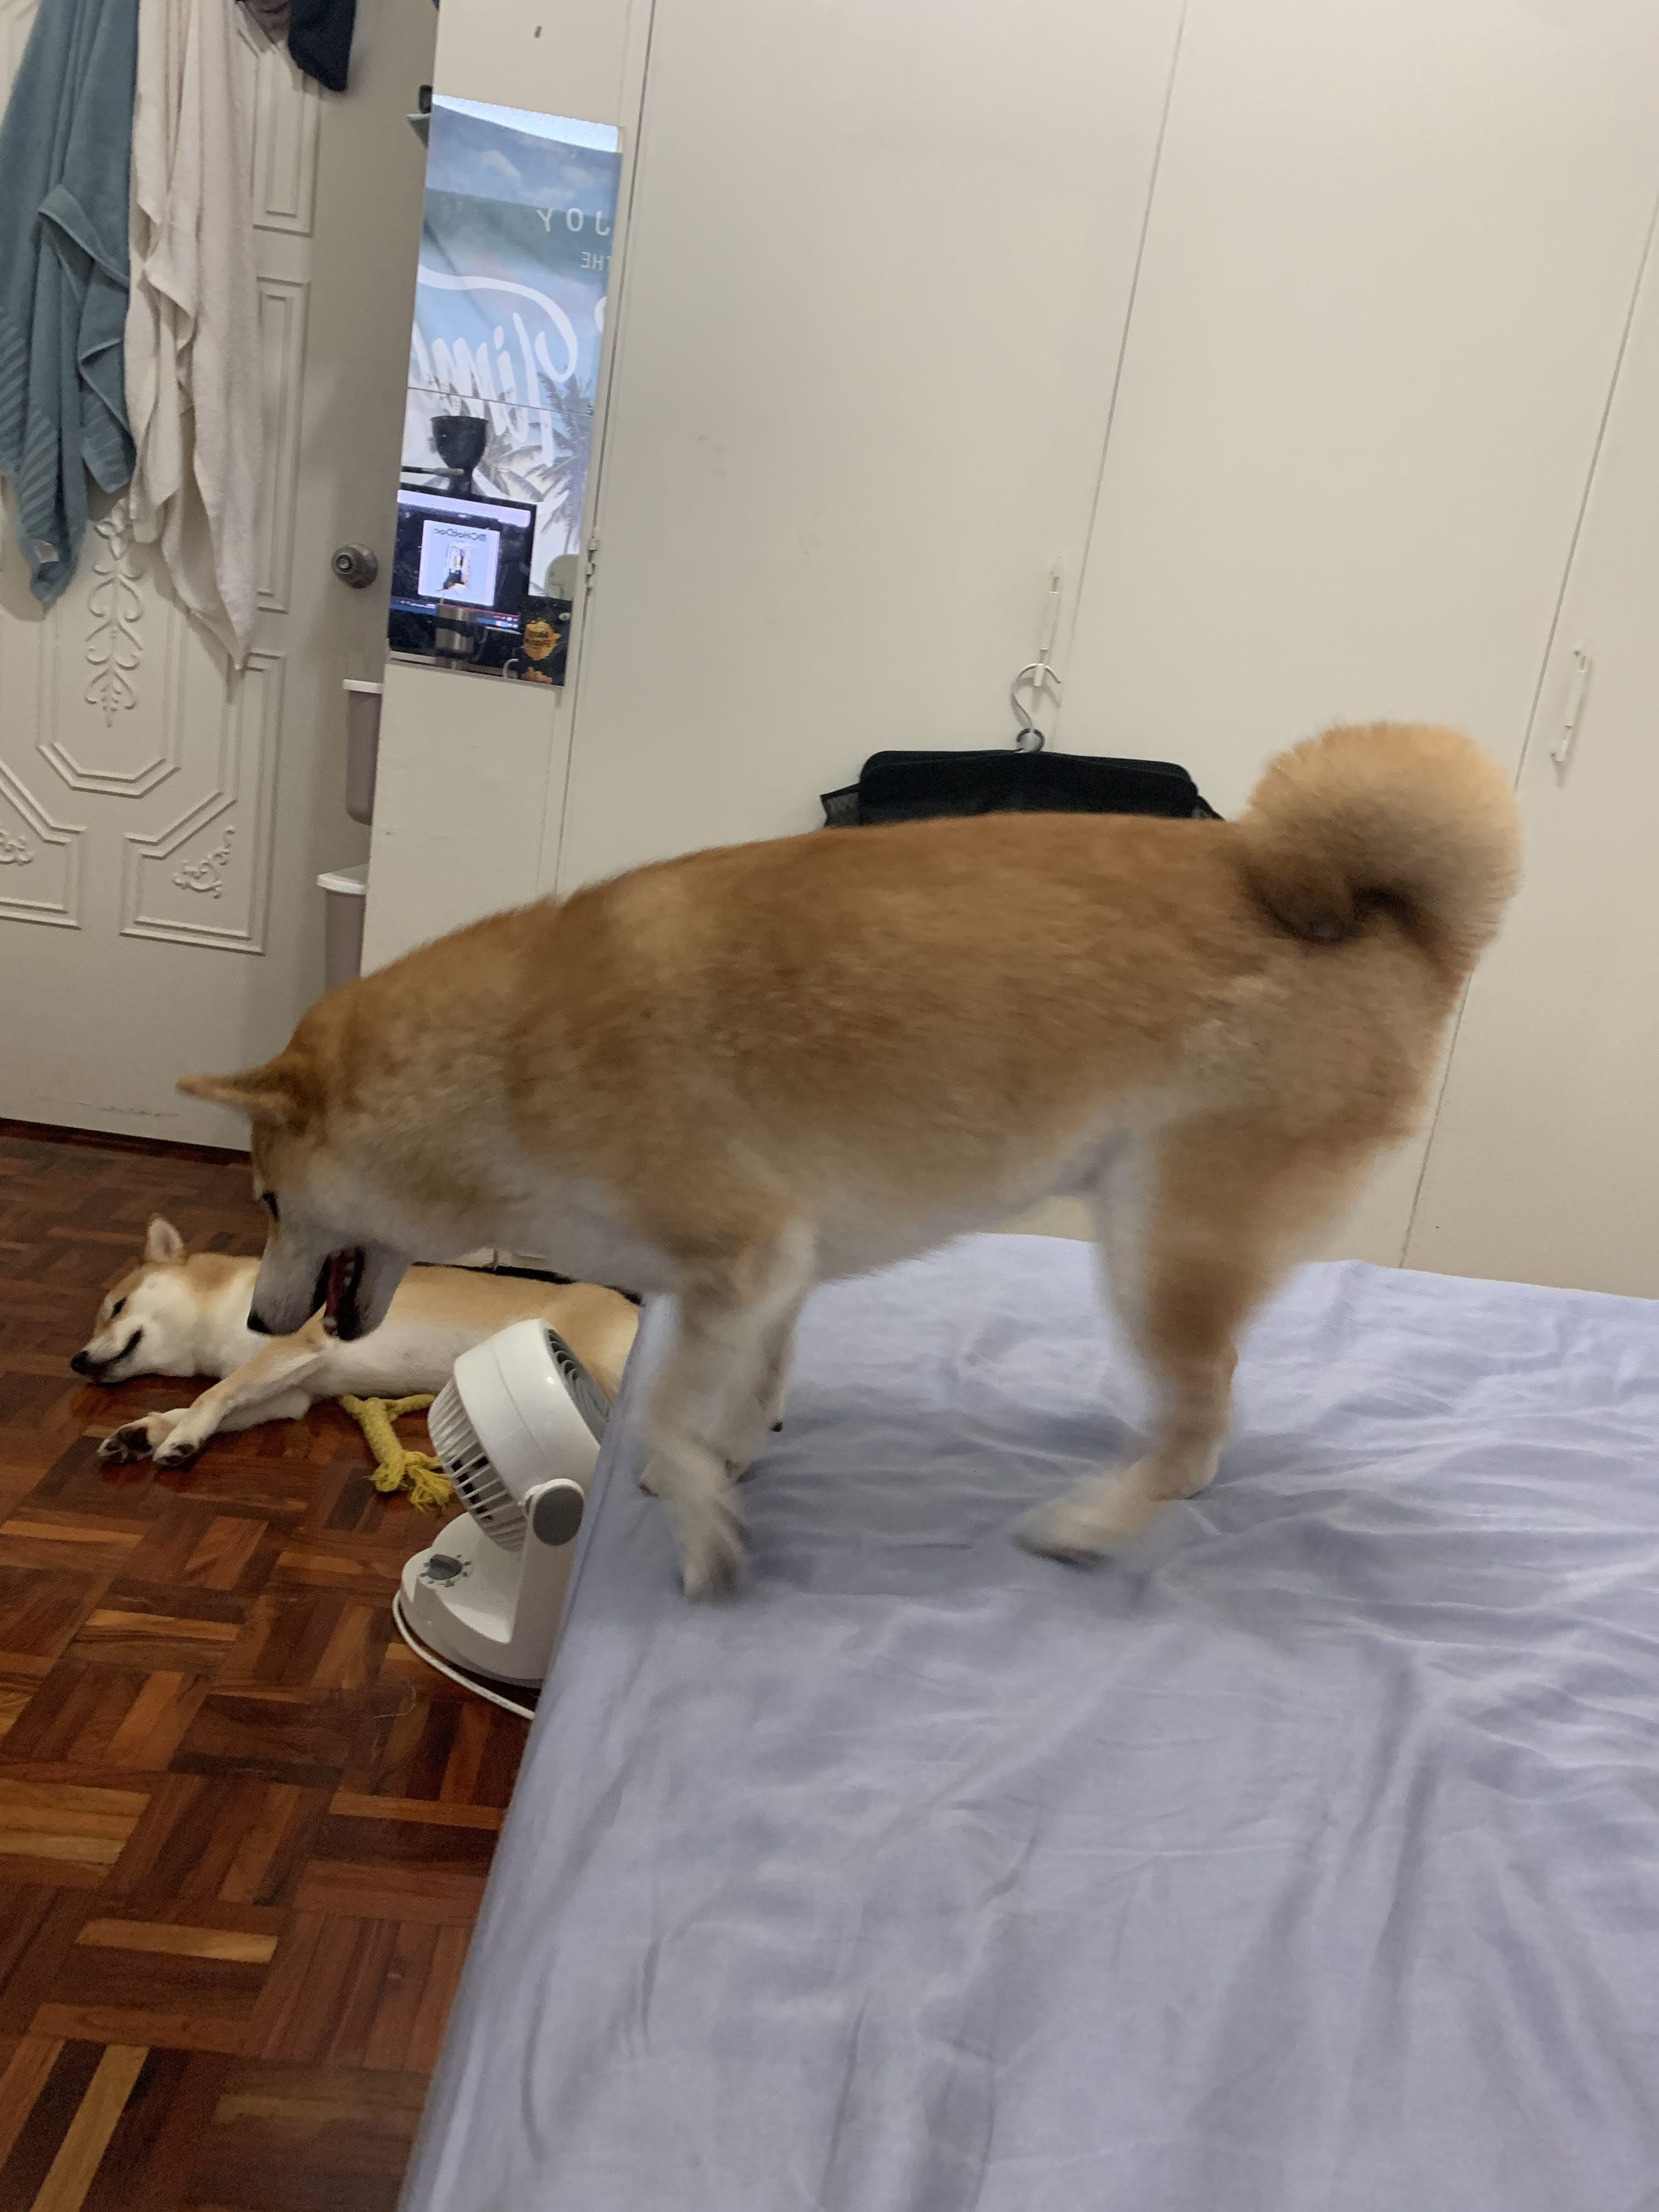Lie down: (85, 1205, 638, 1529)
Stand up: (202, 705, 1581, 1723)
